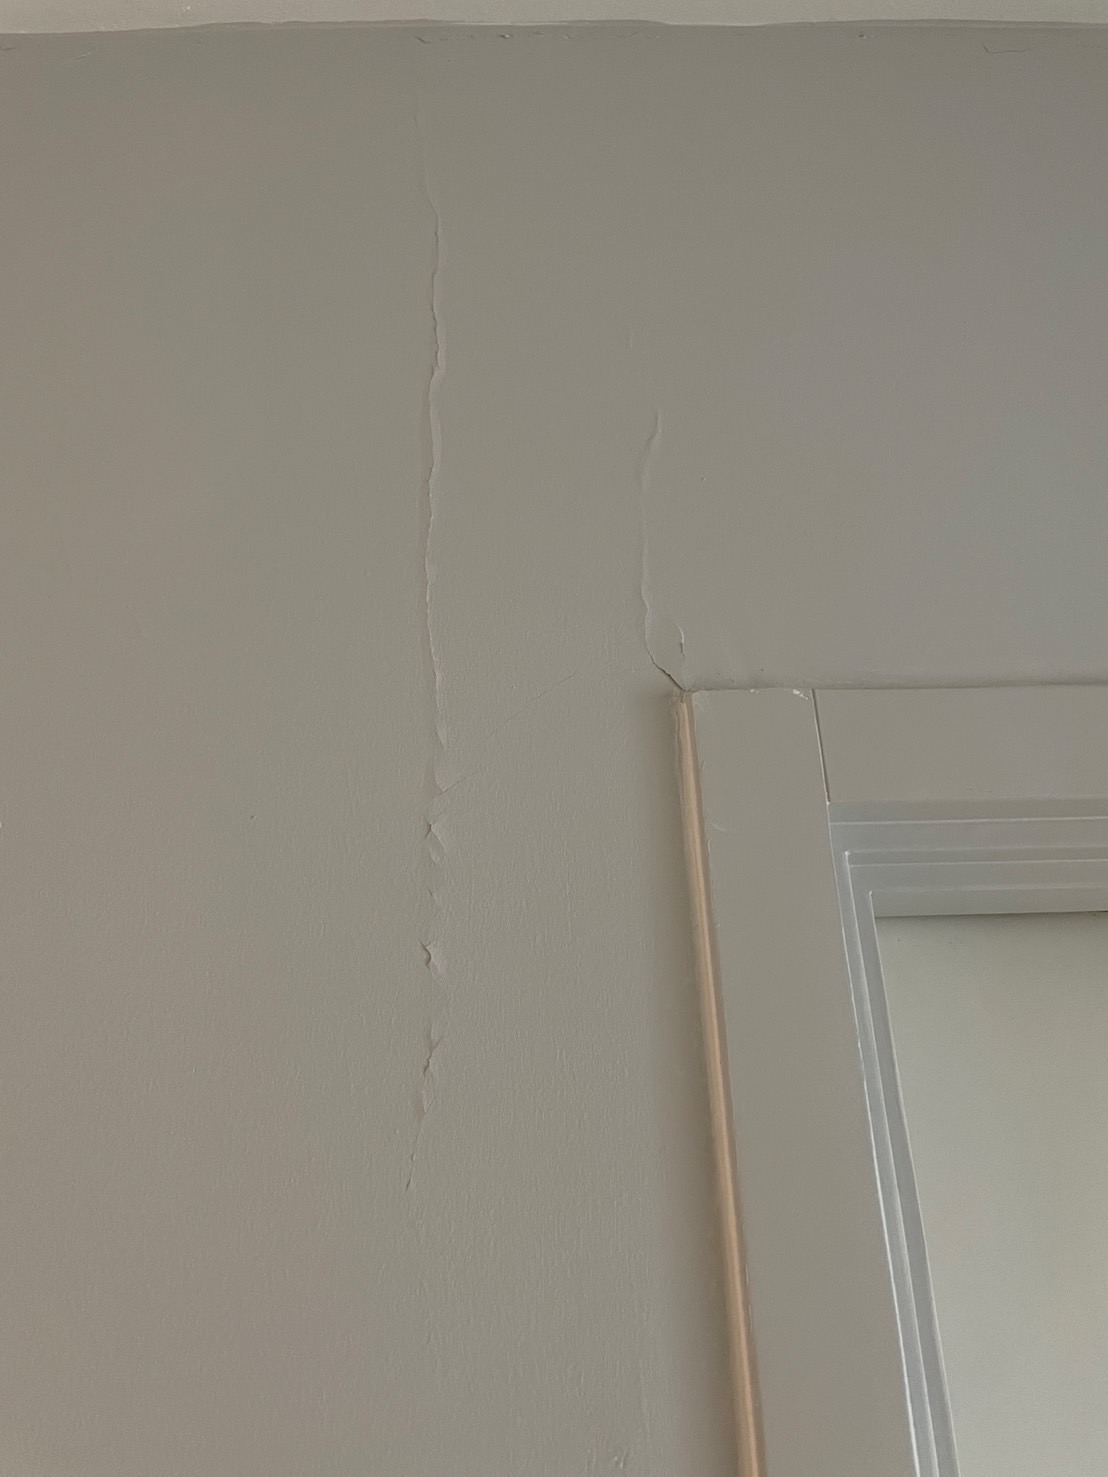Low: (355, 127, 576, 1382)
